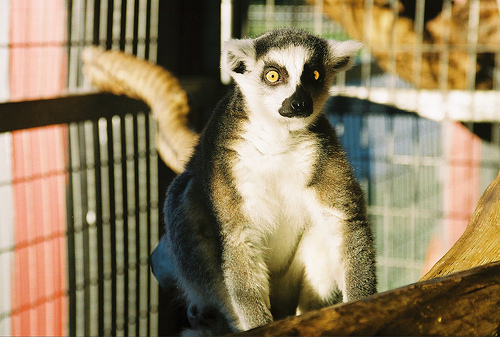cat: (76, 32, 382, 326)
